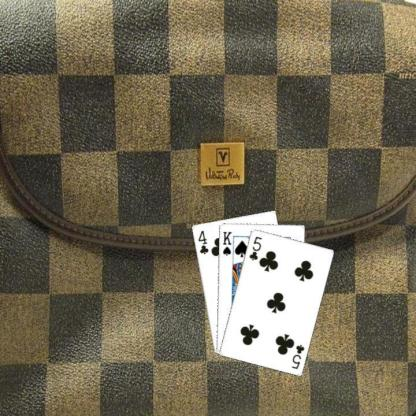4C: (195, 228, 210, 255)
5C: (289, 341, 306, 370), (247, 234, 263, 261)
KS: (220, 229, 232, 256)
